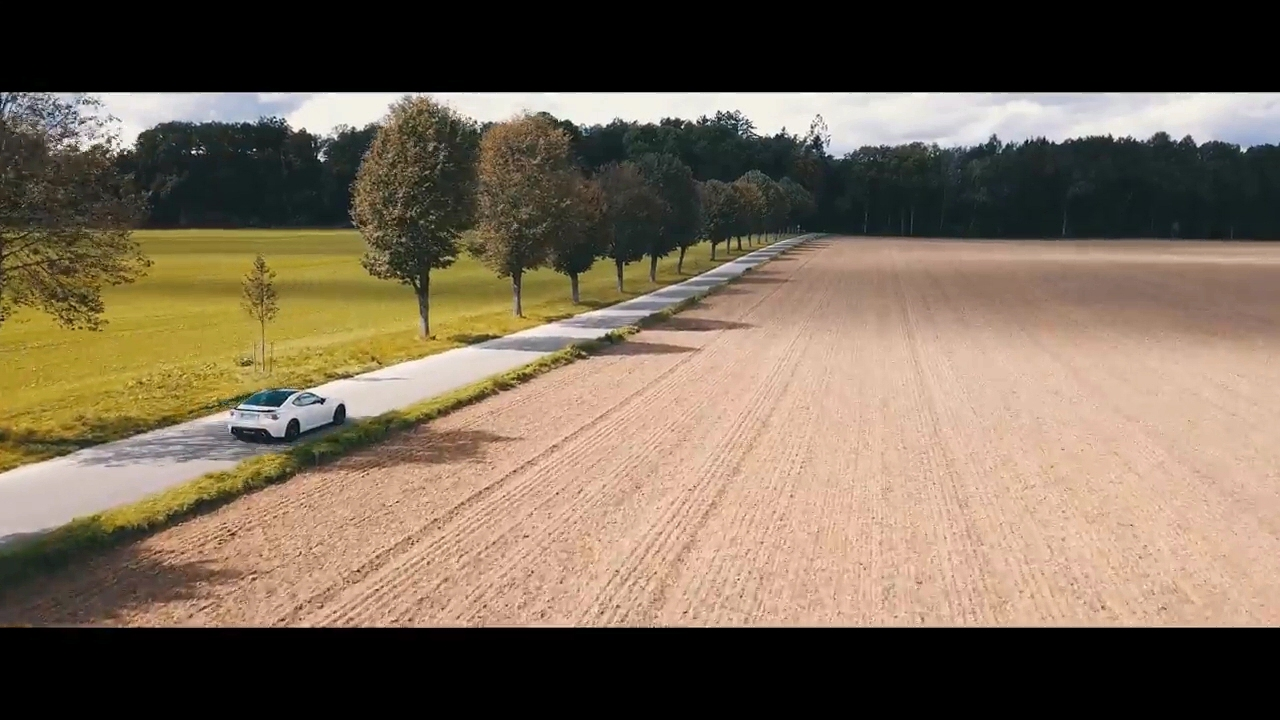araba: (225, 387, 348, 446)
